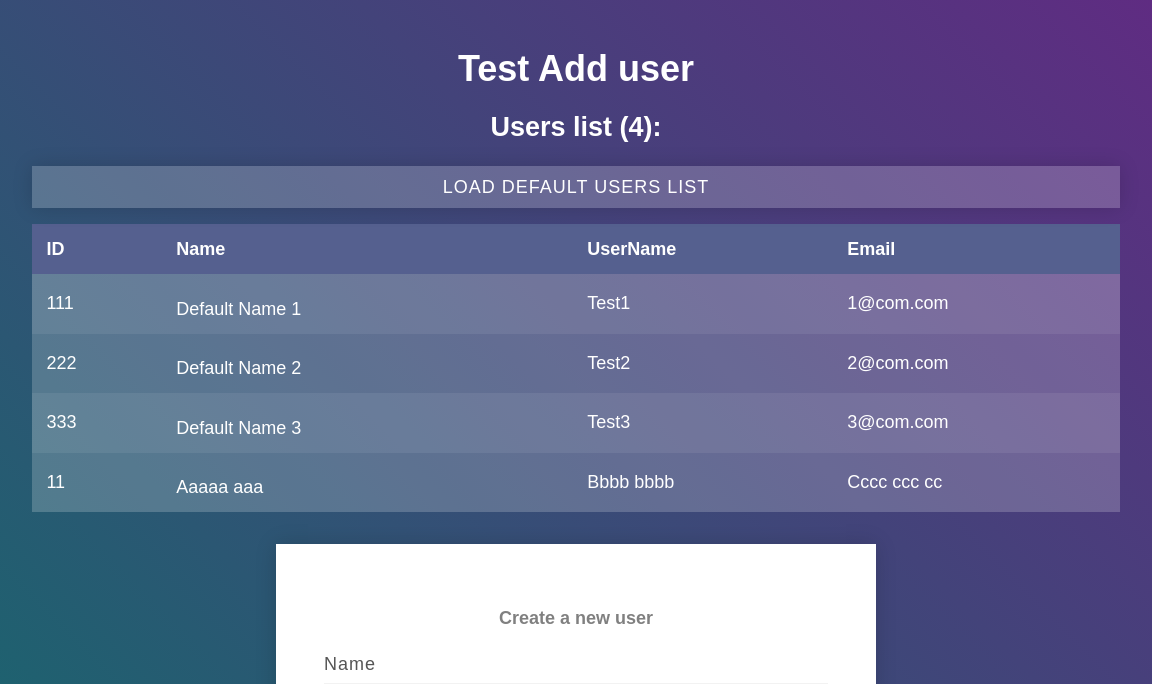
it: Form validation test › Delete new user in table
This screenshot has width=1152, height=684.
Click the text "Aaaaa aaa": (367,482) [162,453,573,512]
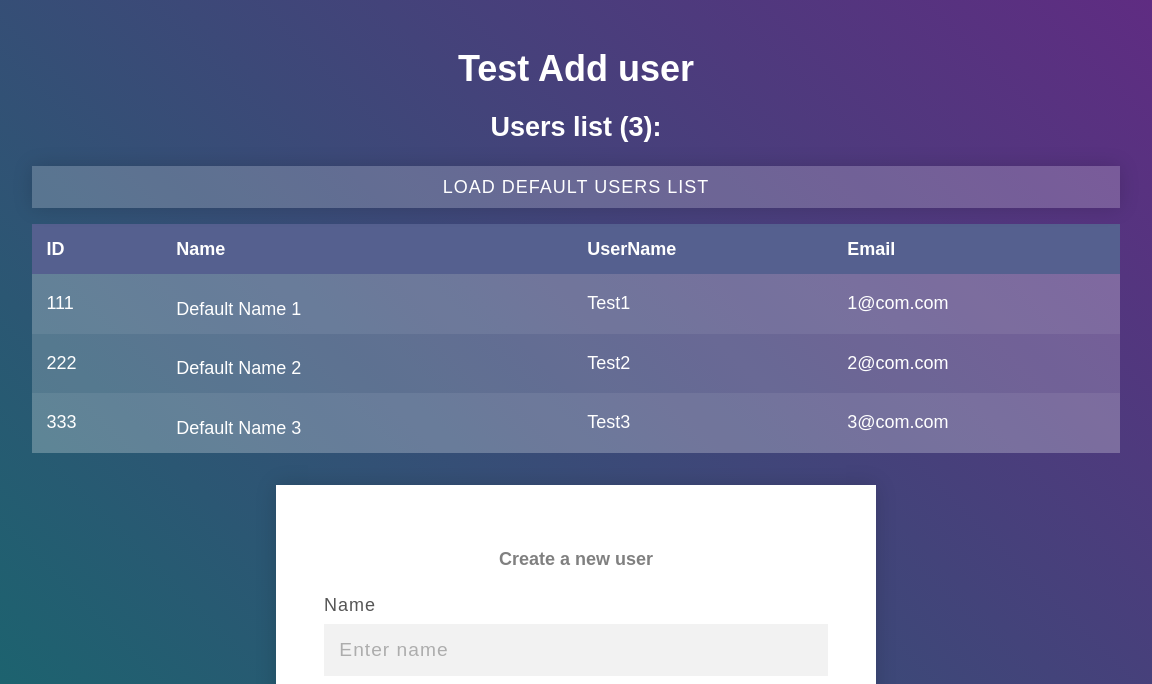
Expected: the text "Cccc ccc cc" is gone
